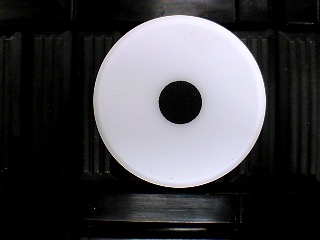BOHO: (92, 15, 267, 188)
